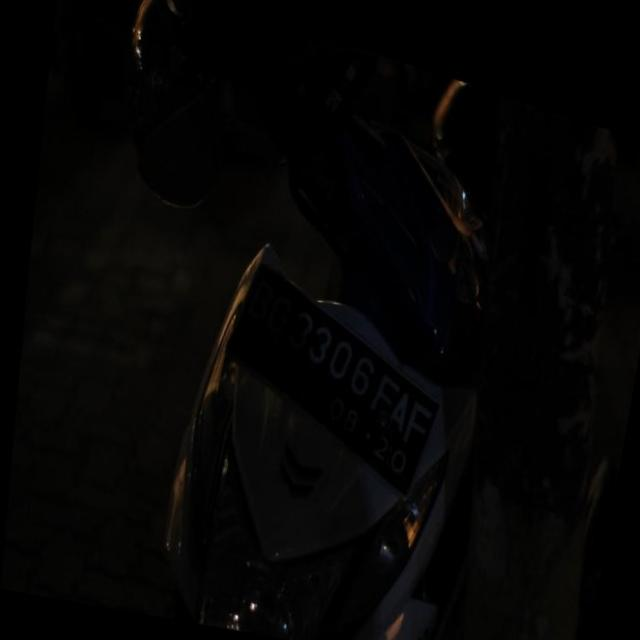plate: (221, 256, 443, 498)
